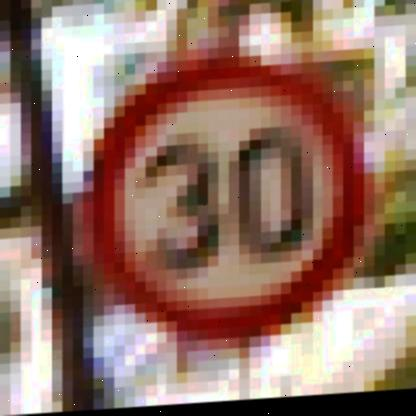Speed Limit -30-: (79, 49, 367, 352)
